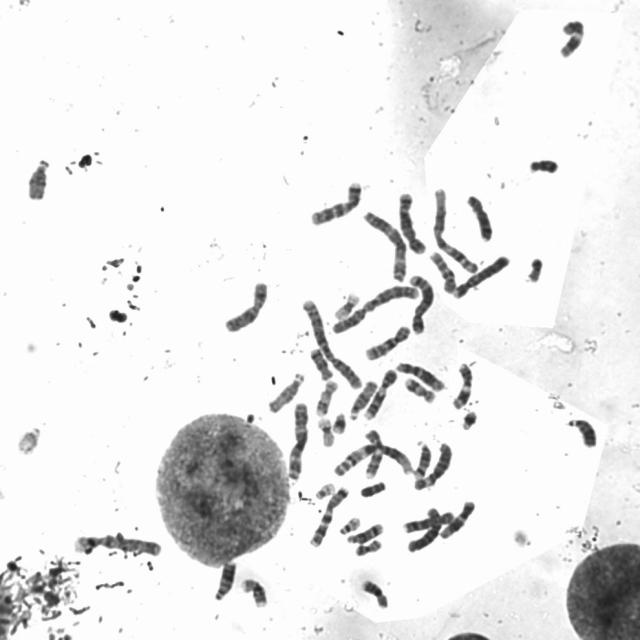A1: (429, 184, 481, 274), (331, 439, 416, 478)
A2: (301, 296, 365, 390), (328, 281, 421, 335)
A3: (360, 207, 409, 283), (282, 398, 311, 481)
B4: (449, 250, 512, 300), (72, 531, 164, 557)
B5: (394, 188, 429, 255), (407, 271, 436, 335)
C10: (362, 322, 413, 362), (426, 248, 458, 294)
C11: (448, 358, 474, 411), (556, 14, 586, 58)
C12: (394, 358, 448, 393), (437, 497, 477, 539)
C6: (410, 439, 454, 491), (403, 503, 443, 554)
C7: (306, 482, 352, 548), (306, 177, 364, 226)
C8: (464, 191, 494, 242), (399, 508, 456, 534)
C9: (361, 366, 399, 420), (361, 426, 384, 480)
D13: (564, 414, 599, 449), (211, 557, 238, 602)
D14: (344, 520, 385, 544), (411, 438, 434, 480)
D15: (264, 368, 306, 414), (346, 377, 379, 421), (25, 156, 52, 203)
E16: (357, 576, 390, 609), (238, 574, 269, 609)
E17: (312, 376, 340, 416), (401, 373, 437, 404)
E18: (306, 345, 335, 381), (524, 156, 563, 178)
F19: (331, 288, 362, 320), (313, 413, 337, 448)
F20: (352, 536, 384, 557), (524, 253, 545, 284)
G21: (458, 406, 480, 431), (329, 409, 348, 435)
G22: (336, 512, 362, 536), (312, 479, 336, 501)
X: (220, 277, 270, 334)
Y: (358, 478, 387, 499)
